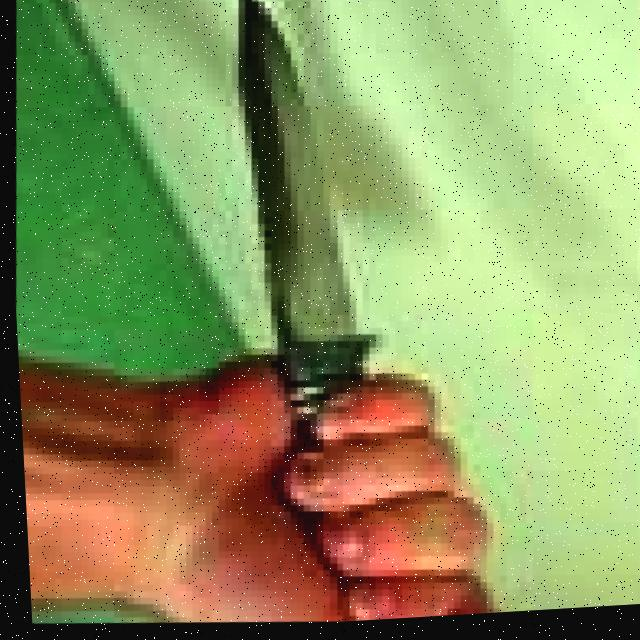knife: (185, 0, 431, 394)
